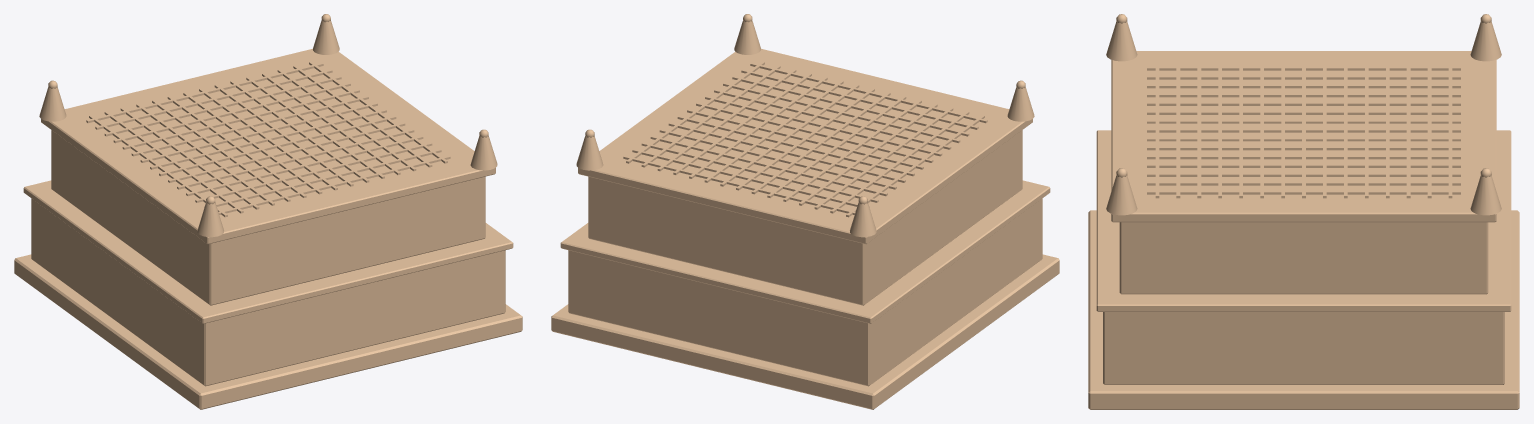
File: solomon-altar.glb
3 views of the same model, side by side, from view 1: azimuth 30°, elevation 25°; view 2: azimuth 150°, elevation 25°; view 3: azimuth 270°, elevation 25° (orthographic). The views are drawn at different scales.
Parts seen in each view (by area): view 1: altar; view 2: altar; view 3: altar.
Part boxes in pixels (box(x1,y1,x2,y2)): altar: box(14, 14, 522, 409); altar: box(551, 14, 1059, 409); altar: box(1088, 14, 1519, 409).
Size of the model in its own units: 20.6 by 12.03 by 20.6.
